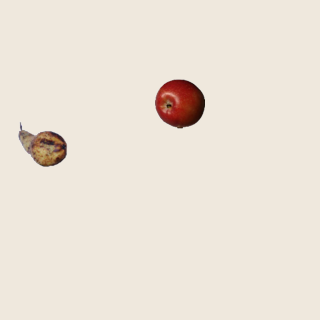Apple Braeburn: (154, 78, 204, 128)
Pear Abate: (17, 119, 67, 169)
